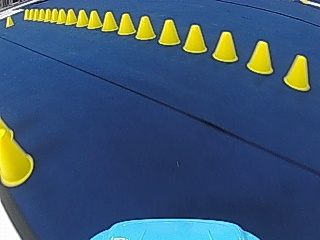cone: (0, 120, 35, 187), (246, 39, 275, 74), (284, 54, 311, 90), (213, 30, 239, 62), (182, 23, 207, 53), (158, 18, 180, 45), (135, 15, 155, 40), (117, 12, 135, 35), (101, 11, 117, 32), (87, 10, 101, 29), (75, 9, 88, 27), (65, 9, 76, 25), (56, 9, 66, 23), (50, 9, 58, 21), (44, 8, 51, 21), (5, 17, 14, 27), (37, 9, 44, 20)
